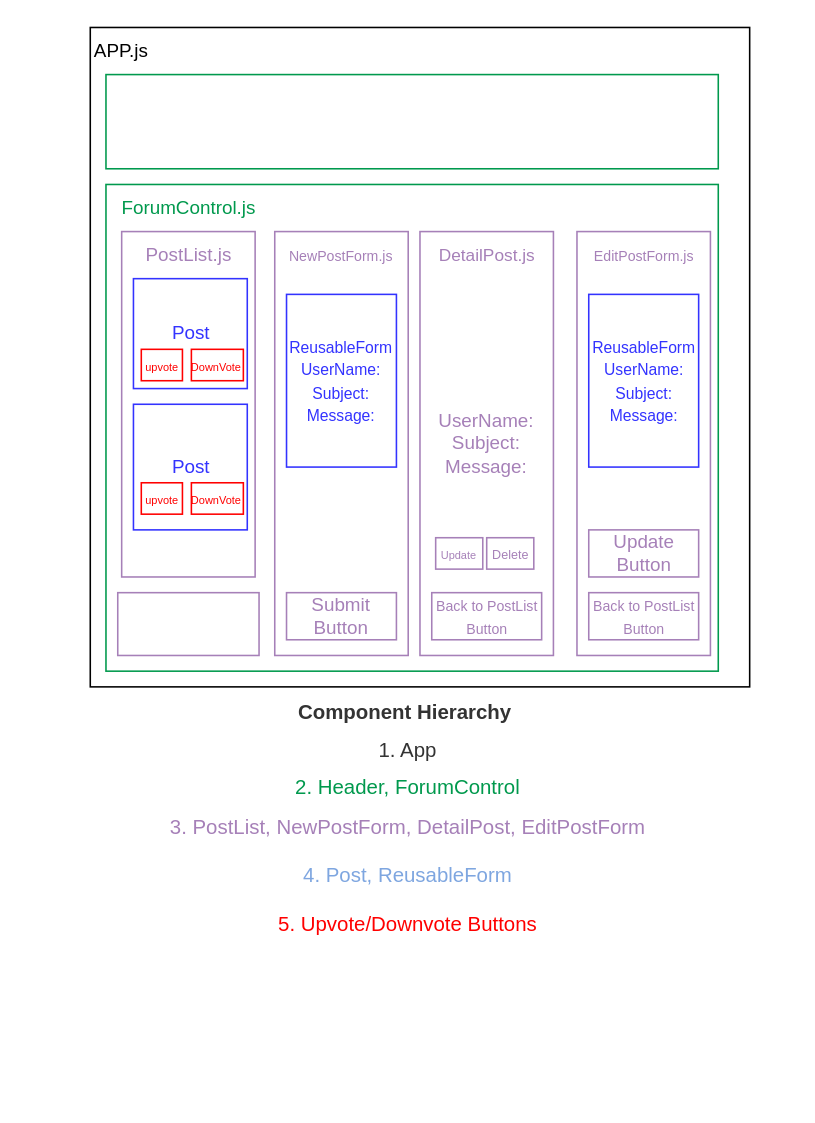
This 815x1123 diagram has some shape labels left out. The shapes that lost their labels are listed below. From the top down, each one's centre as x and y in pixels, then its label:
At (411,121): "Header.js".
At (187,623): "Add Post Button".
